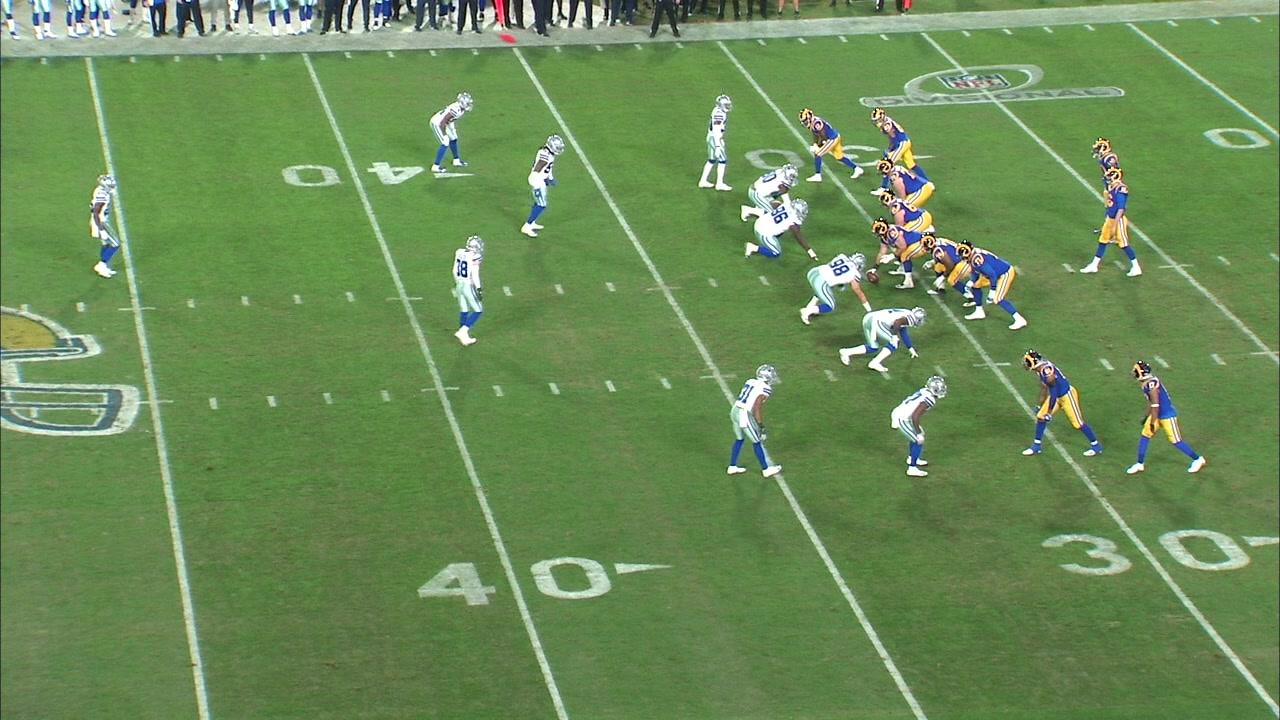defense: (725, 363, 785, 480), (888, 374, 951, 478), (836, 306, 929, 375), (798, 250, 874, 330), (513, 134, 564, 239), (743, 197, 822, 263), (452, 233, 488, 349), (696, 93, 735, 194), (87, 172, 122, 284), (739, 163, 802, 222), (430, 94, 474, 170)
oline: (953, 237, 1028, 332), (918, 231, 979, 309), (877, 160, 938, 235), (875, 190, 934, 265), (867, 218, 927, 291)
qb: (1077, 167, 1144, 279)
skill: (1121, 362, 1209, 480), (1022, 347, 1096, 458), (867, 105, 934, 197), (796, 106, 866, 184), (1087, 134, 1122, 236)
